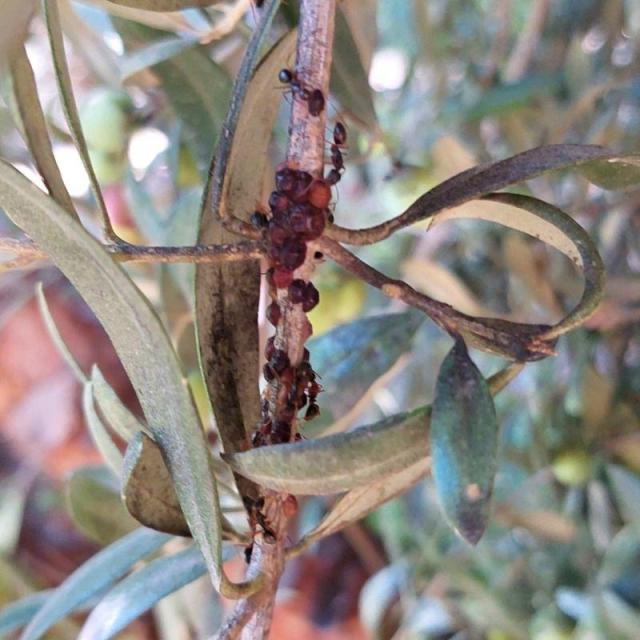Black Scale: (250, 145, 343, 446), (280, 493, 298, 525)
